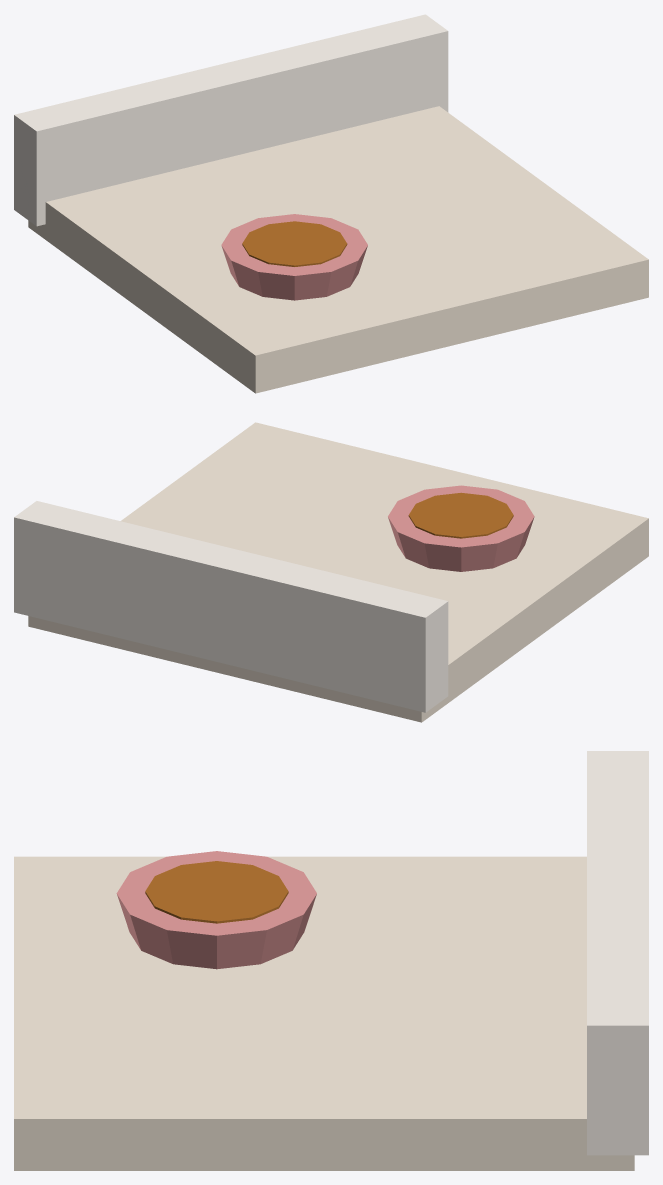
The model's file is CatCafe_Style_DragonScales.fbx.
3 renders of one model, top to bottom at view 1: azimuth 30°, elevation 25°; view 2: azimuth 150°, elevation 25°; view 3: azimuth 270°, elevation 25°, orthographic. The views are drawn at different scales.
Parts seen in each view (by area): view 1: CatCafe_Style_DragonScales_Swatch, CatCafe_Style_DragonScales; view 2: CatCafe_Style_DragonScales, CatCafe_Style_DragonScales_Swatch; view 3: CatCafe_Style_DragonScales_Swatch, CatCafe_Style_DragonScales.
Boxes of the visible parts, x1,y1,x2,y2 form: CatCafe_Style_DragonScales_Swatch: [28, 106, 648, 393]; CatCafe_Style_DragonScales: [14, 14, 448, 300]; CatCafe_Style_DragonScales: [14, 485, 534, 712]; CatCafe_Style_DragonScales_Swatch: [28, 422, 648, 722]; CatCafe_Style_DragonScales_Swatch: [14, 856, 634, 1170]; CatCafe_Style_DragonScales: [116, 751, 648, 1155].
Bounding box in the file's own units: 2.72 × 0.7 × 2.66.
Materials: 1 (1 with a texture image).
